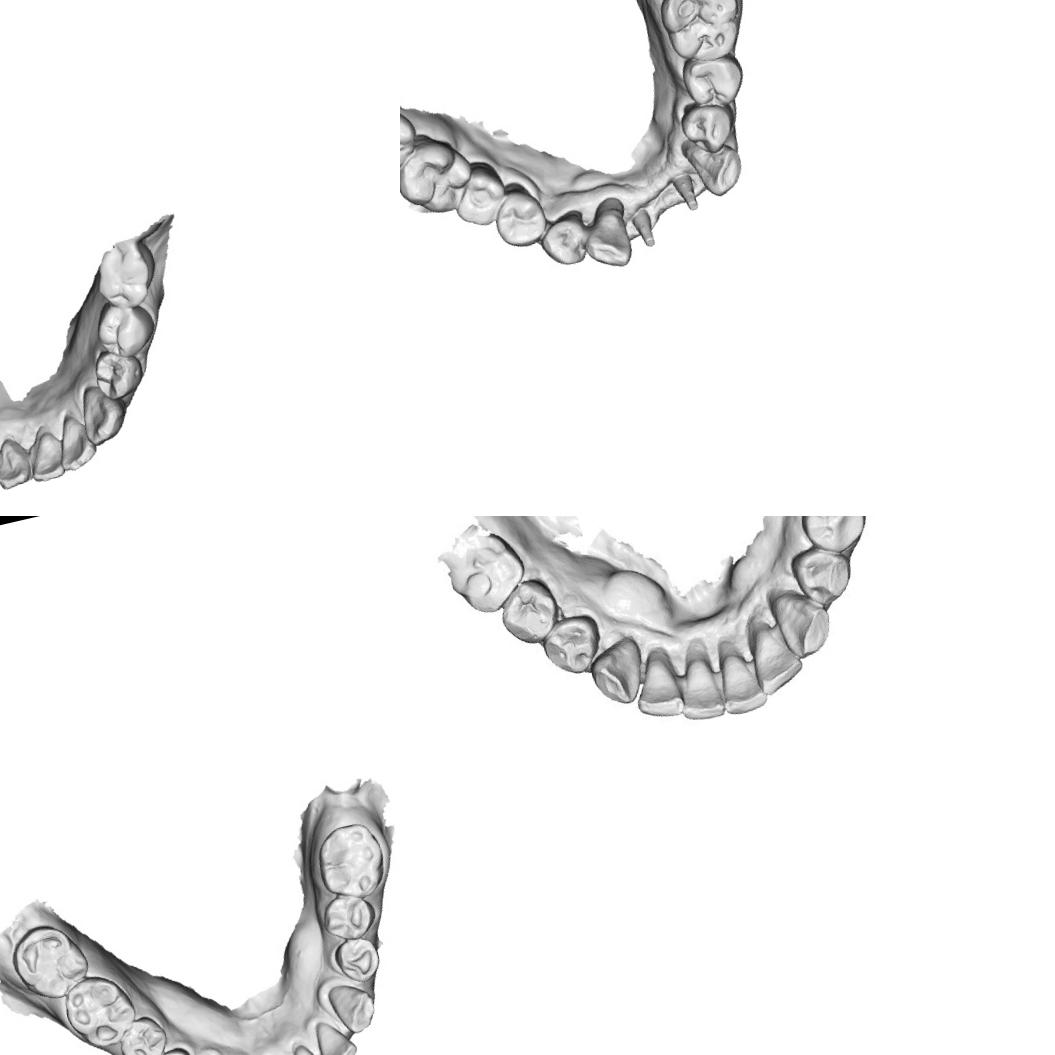abutment: (667, 168, 704, 217), (627, 204, 660, 250)
canine: (768, 579, 834, 662), (678, 127, 750, 203), (574, 193, 640, 274), (584, 636, 649, 712), (74, 378, 134, 448), (324, 976, 382, 1040)
incisor: (667, 640, 732, 728), (743, 611, 808, 696), (708, 631, 772, 717), (622, 643, 687, 723), (50, 410, 100, 474), (22, 428, 69, 485), (0, 433, 36, 491), (311, 1014, 361, 1055), (285, 1037, 336, 1055)
molar: (439, 523, 534, 621), (400, 122, 481, 223), (0, 913, 89, 999), (57, 967, 143, 1055), (310, 816, 392, 906), (651, 0, 751, 72), (89, 236, 164, 314), (444, 155, 513, 232), (400, 89, 424, 185)
premolar: (493, 571, 569, 649), (785, 538, 861, 611), (538, 608, 611, 682), (90, 293, 162, 364), (678, 47, 752, 113), (488, 184, 552, 254), (532, 204, 596, 271), (677, 97, 742, 159), (794, 516, 876, 563), (88, 342, 150, 404), (317, 888, 380, 946), (330, 932, 387, 989), (112, 1011, 173, 1055), (148, 1042, 201, 1055)
